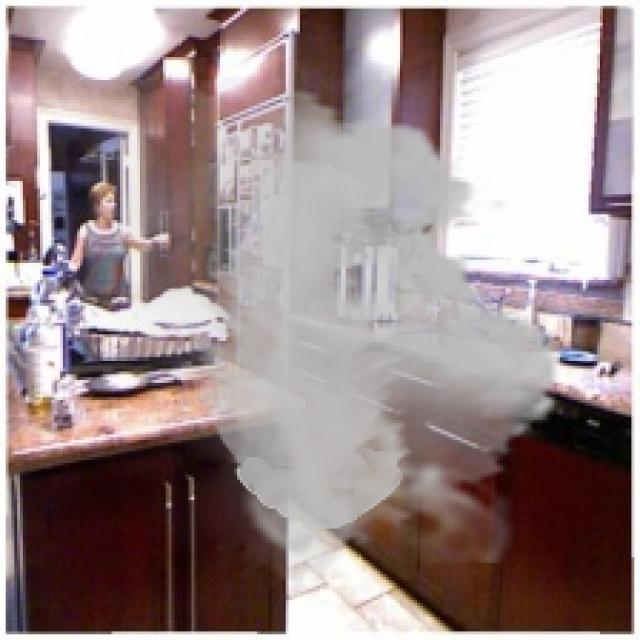Smoke: (46, 77, 580, 597)
